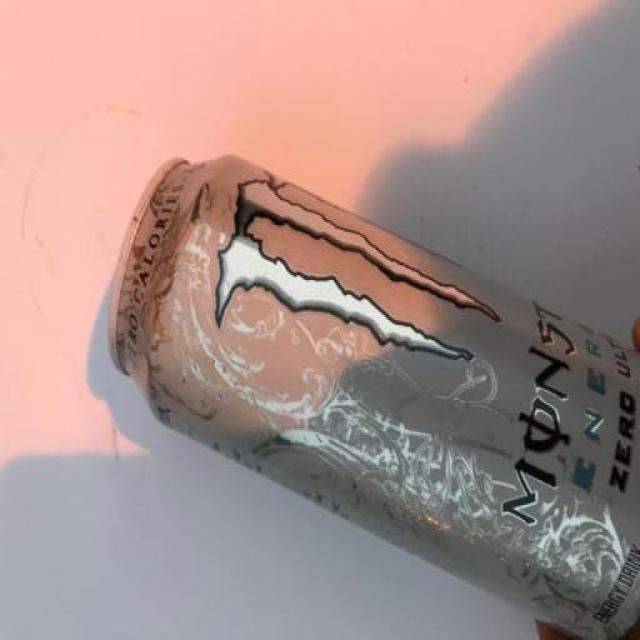metel: (108, 132, 640, 640)
